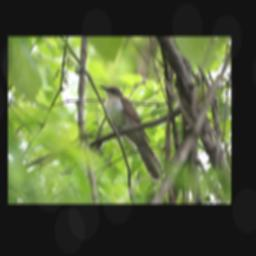Cuckoo: (98, 83, 165, 182)
